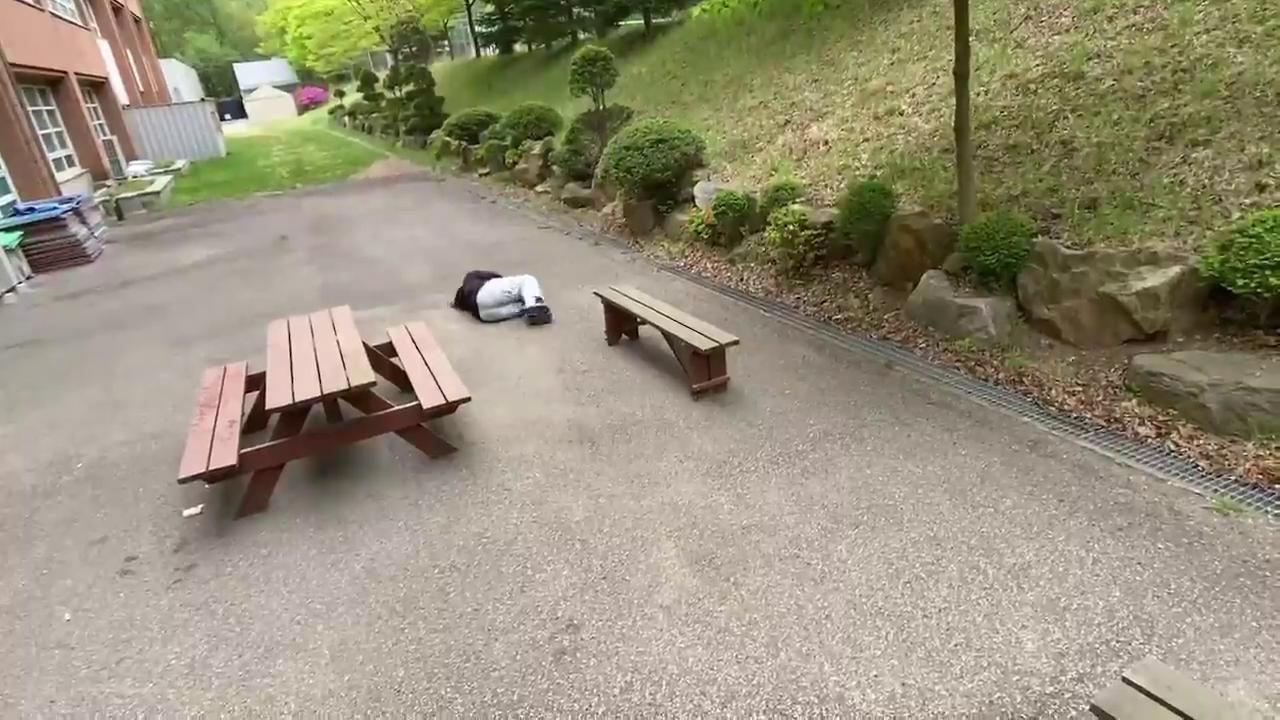faint: (445, 267, 555, 328)
